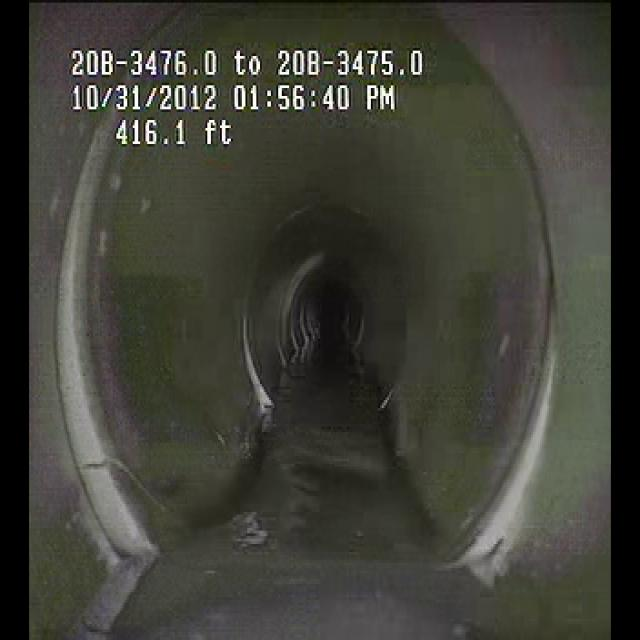Crack: (72, 418, 190, 559)
